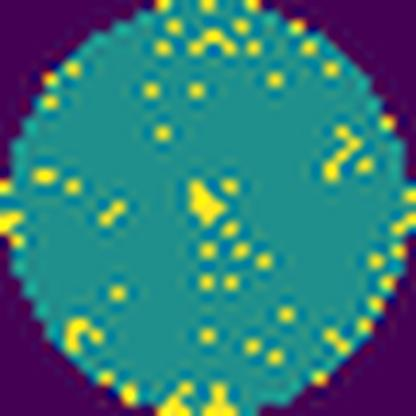Center: (181, 176, 231, 229)
